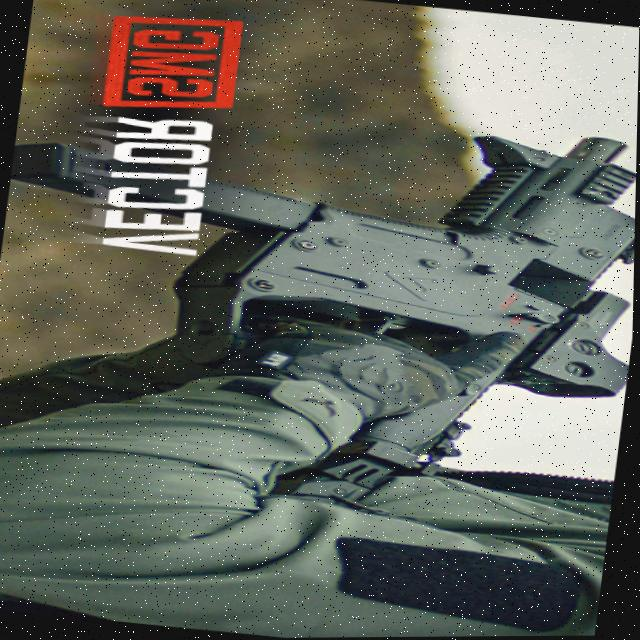firearm: (0, 76, 639, 531)
